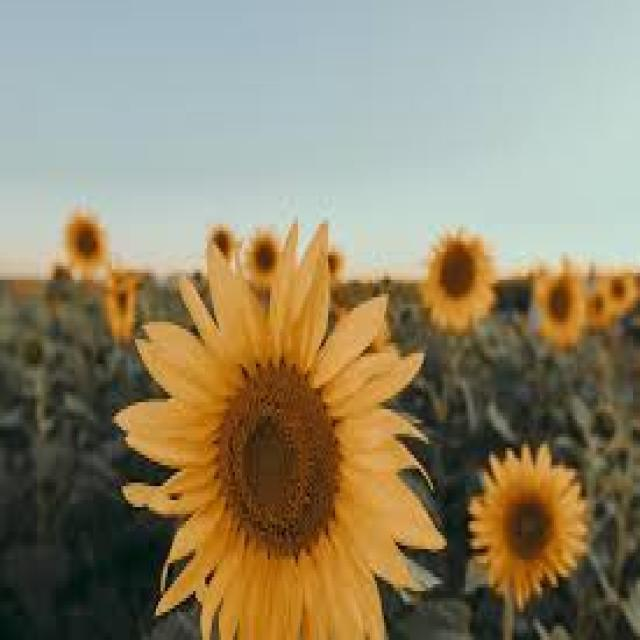sunflower: (112, 216, 447, 636), (466, 441, 588, 608), (418, 228, 494, 332), (533, 266, 584, 346), (65, 211, 107, 271), (106, 266, 134, 343), (242, 232, 280, 288), (206, 220, 238, 276), (601, 270, 633, 316), (582, 287, 610, 329), (326, 242, 342, 284)
